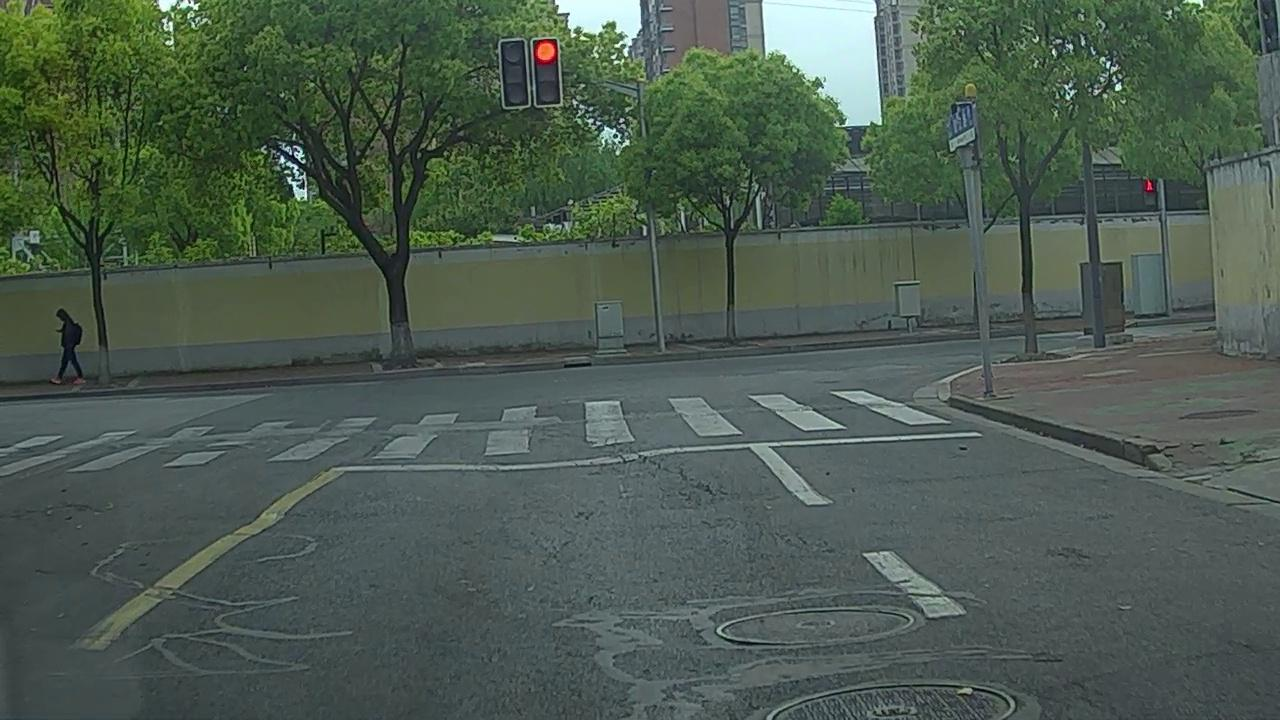traffic_light: (501, 41, 528, 108), (533, 40, 560, 106)
